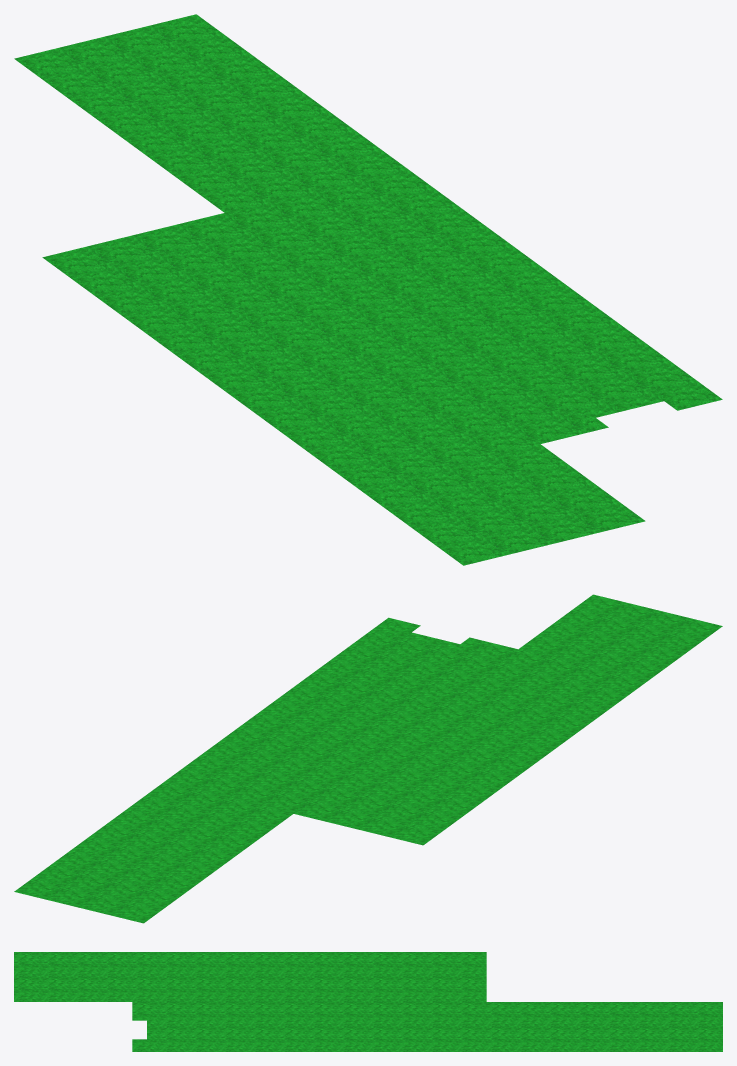
Rendered from mLv1Ground.obj.
The picture shows the model from 3 angles, top to bottom: view 1: azimuth 30°, elevation 25°; view 2: azimuth 150°, elevation 25°; view 3: azimuth 270°, elevation 25°; orthographic projection. The views are drawn at different scales.
Parts seen in each view (by area): view 1: mGround1; view 2: mGround1; view 3: mGround1.
Boxes of the visible parts, <box> form: mGround1: <box>14,14,722,565</box>; mGround1: <box>14,594,722,923</box>; mGround1: <box>14,952,722,1051</box>.
Size of the model in its own units: 48 by 0 by 144.
Materials: 1 (1 with a texture image).
